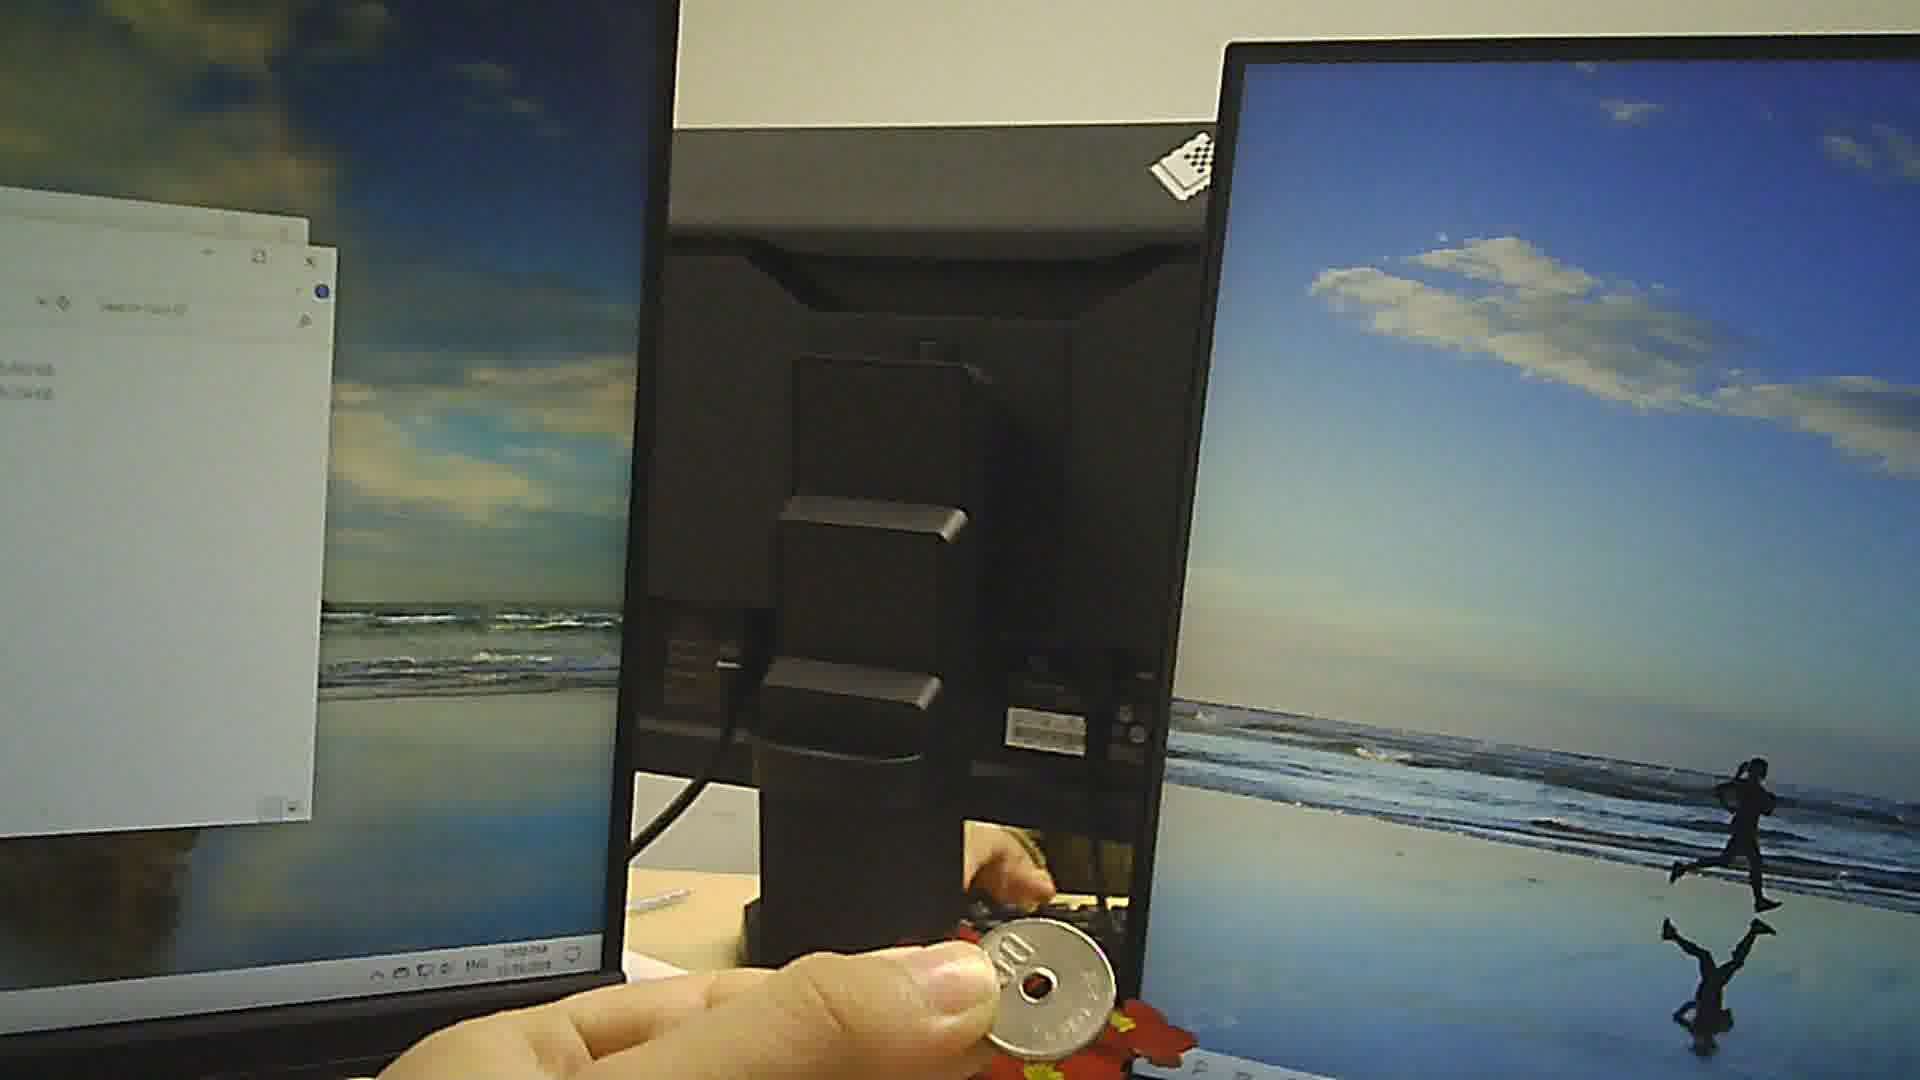50 Yen: (963, 910, 1125, 1064)
